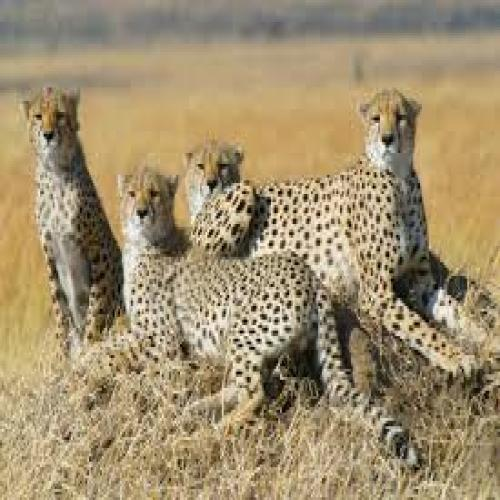cheetah-endangered: (86, 170, 421, 471), (191, 89, 489, 376), (17, 86, 125, 368), (179, 140, 245, 218)
